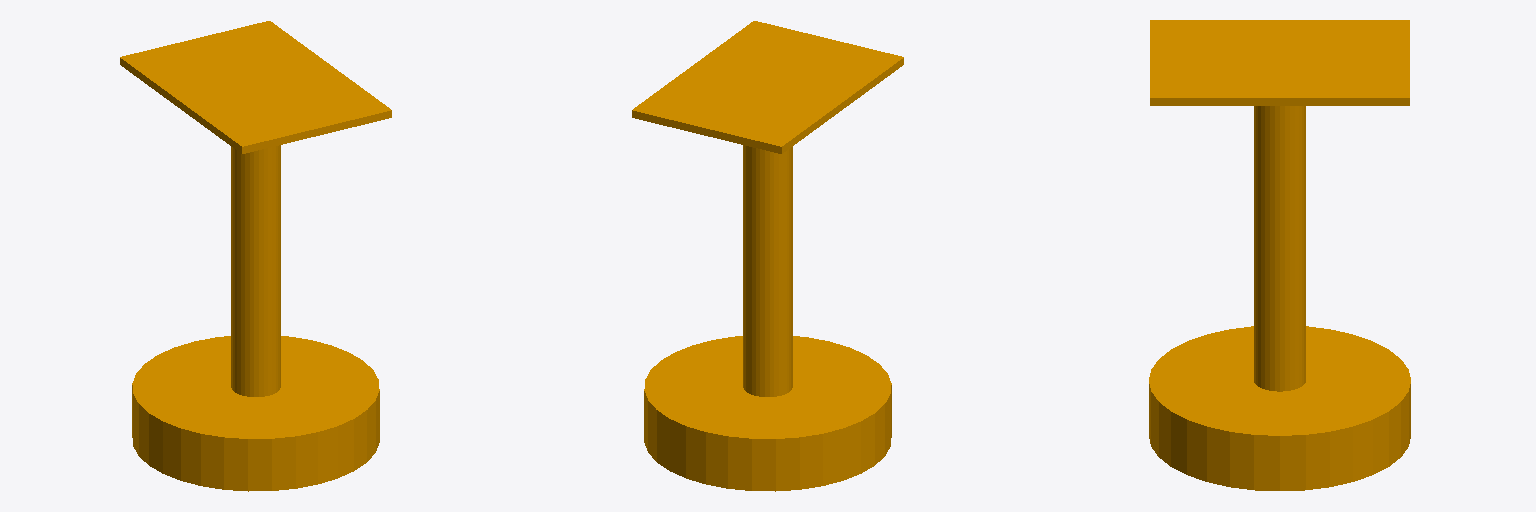
URDF robot description (platform):
<?xml version="1.0" ?>
<!-- =================================================================================== -->
<!-- |    This document was autogenerated by xacro from [local-path]/Projects/simulation/models/airstand/platform/platform.urdf.xacro | -->
<!-- |    EDITING THIS FILE BY HAND IS NOT RECOMMENDED                                 | -->
<!-- =================================================================================== -->
<robot name="platform">
  <link name="base_link">
    <visual name="base">
      <origin rpy="0 0 0" xyz="0 0 0.035"/>
      <geometry>
        <cylinder length="0.07" radius="0.15"/>
      </geometry>
    </visual>
    <collision name="base">
      <origin rpy="0 0 0" xyz="0 0 0.035"/>
      <geometry>
        <cylinder length="0.07" radius="0.15"/>
      </geometry>
    </collision>
    <visual name="base">
      <origin rpy="0 0 0" xyz="0 0 0.27"/>
      <geometry>
        <cylinder length="0.4" radius="0.03"/>
      </geometry>
    </visual>
    <collision name="base">
      <origin rpy="0 0 0" xyz="0 0 0.27"/>
      <geometry>
        <cylinder length="0.4" radius="0.03"/>
      </geometry>
    </collision>
    <visual name="plate">
      <origin rpy="0 0 0" xyz="0 0 0.47000000000000003"/>
      <geometry>
        <box size="0.21 0.297 0.01"/>
      </geometry>
    </visual>
    <collision name="plate">
      <origin rpy="0 0 0" xyz="0 0 0.47000000000000003"/>
      <geometry>
        <box size="0.21 0.297 0.01"/>
      </geometry>
    </collision>
    <inertial>
      <origin rpy="0 0 0" xyz="0 0 1.0"/>
      <mass value="1"/>
      <inertia ixx="0.334" ixy="0.0" ixz="0.0" iyy="0.334" iyz="0.0" izz="0.0017"/>
    </inertial>
  </link>
</robot>

--- Facts derived from the render (not from the file) ---
The picture shows the robot from 3 angles, left to right: view 1: azimuth 30°, elevation 25°; view 2: azimuth 150°, elevation 25°; view 3: azimuth 270°, elevation 25°; orthographic projection.
Robot: platform — 1 links, 0 joints (none); root link base_link; default pose: all joints at 0.
Links seen in each view (by area): view 1: base_link; view 2: base_link; view 3: base_link.
Link boxes in pixels (x1,y1,x2,y2): base_link: (120, 21, 391, 491); base_link: (632, 21, 903, 491); base_link: (1149, 20, 1410, 490).
Size in the robot's own frame: 0.3 by 0.3 by 0.475 metres.
Geometry: primitives only (box / cylinder / sphere), no mesh files.